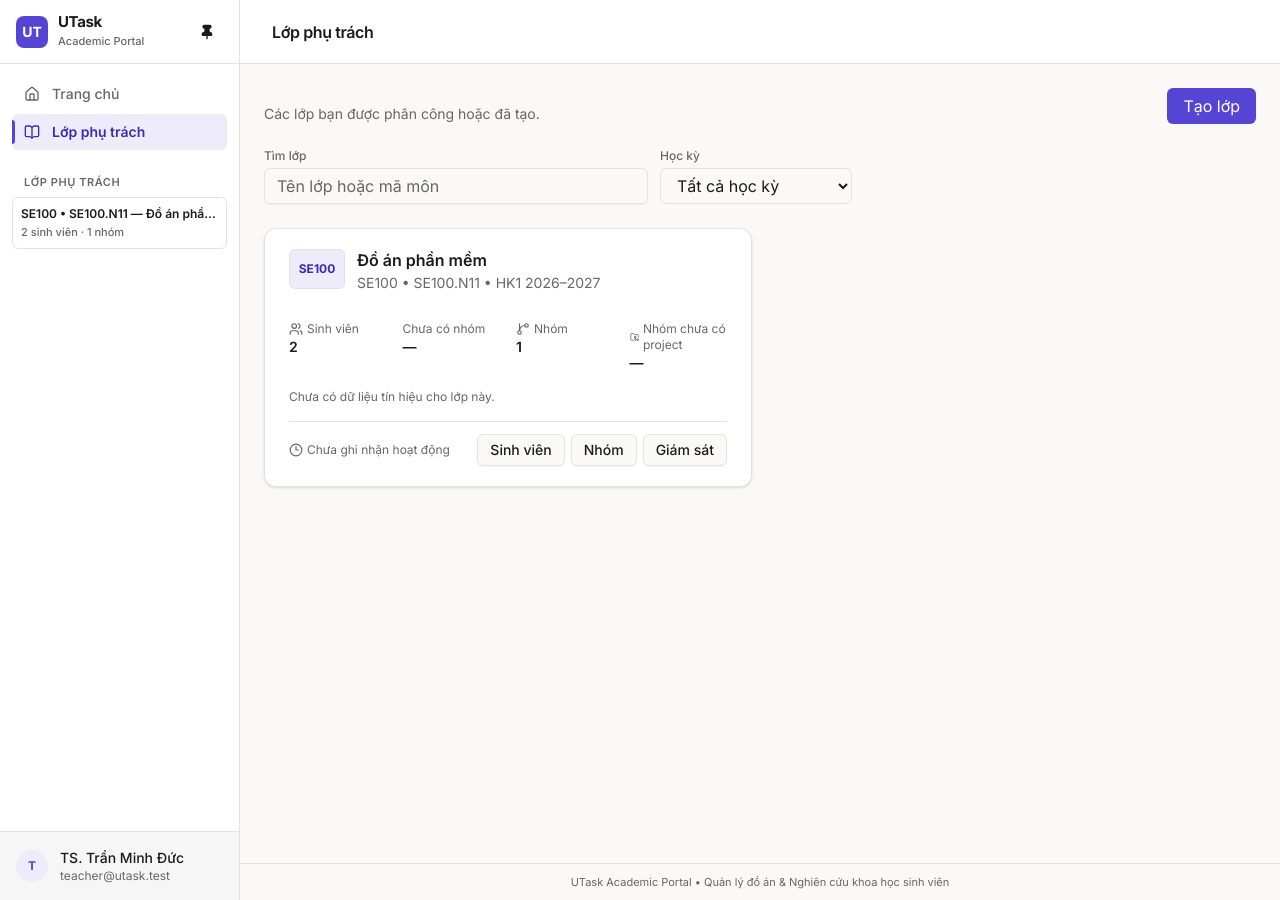
real class creation › opens a dialog on the class list instead of leaving the page, and explains course vs class
The width and height of the screenshot is (1280, 900).
Click the button "Tạo lớp" at (1212, 106), box [1167, 88, 1256, 124]
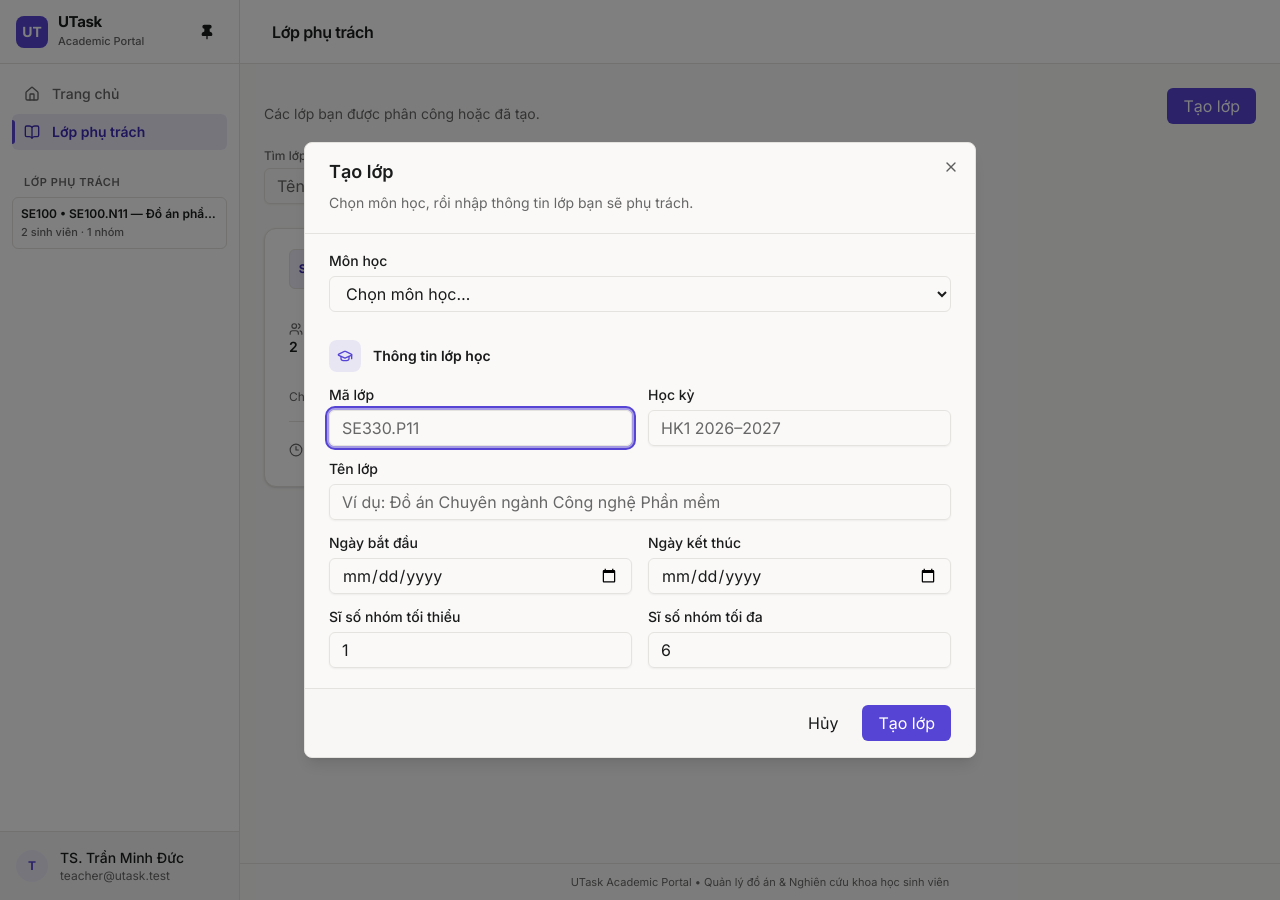
Expected: the heading "Thông tin lớp học" is shown, [373, 346, 491, 366]
Select "SE100 — Đồ án phần mềm" in the dropdown labelled "Môn học" at (640, 294), box [329, 276, 951, 312]
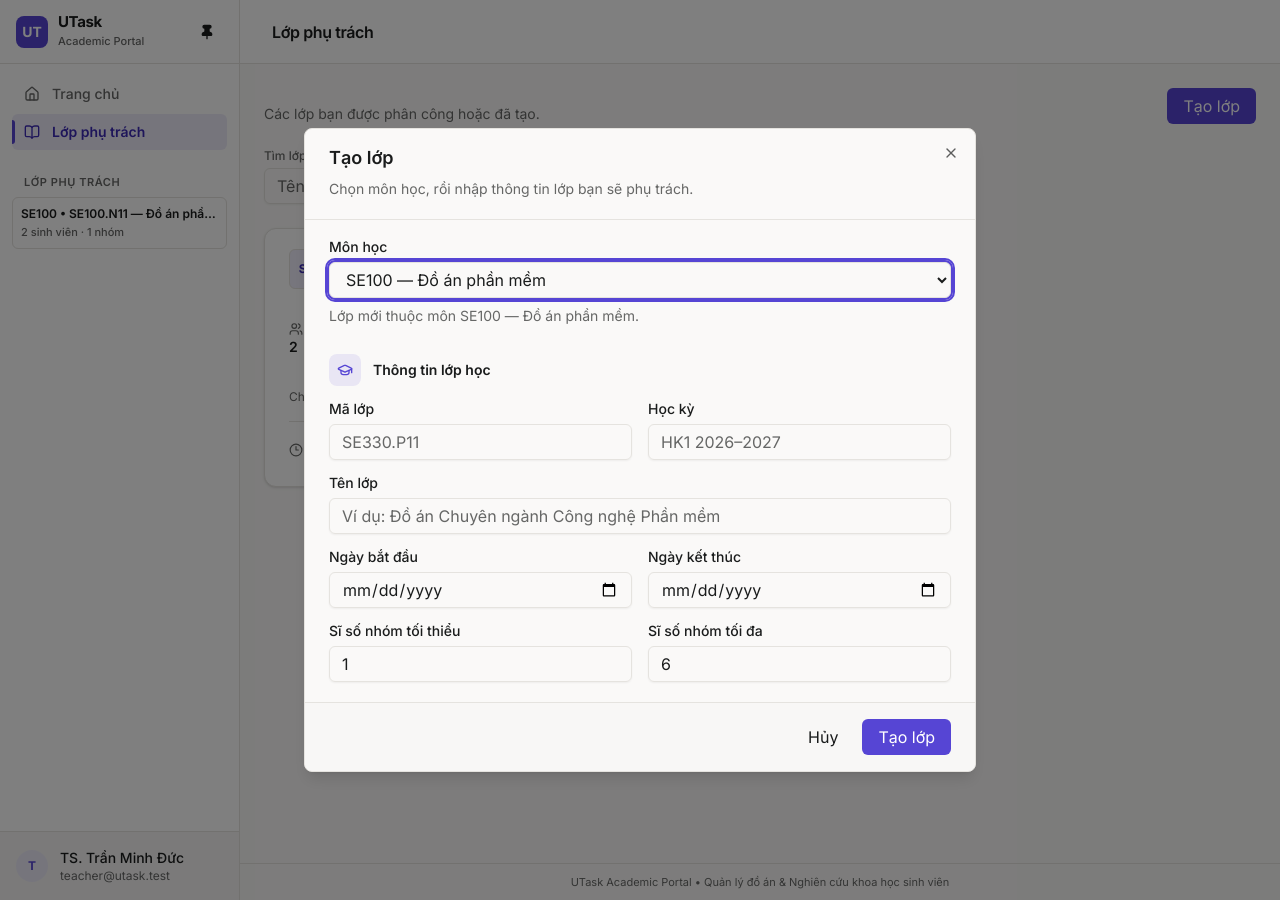
Expected: the text "Lớp mới thuộc môn SE100 — Đồ án phần mềm." is shown, [329, 307, 639, 324]
